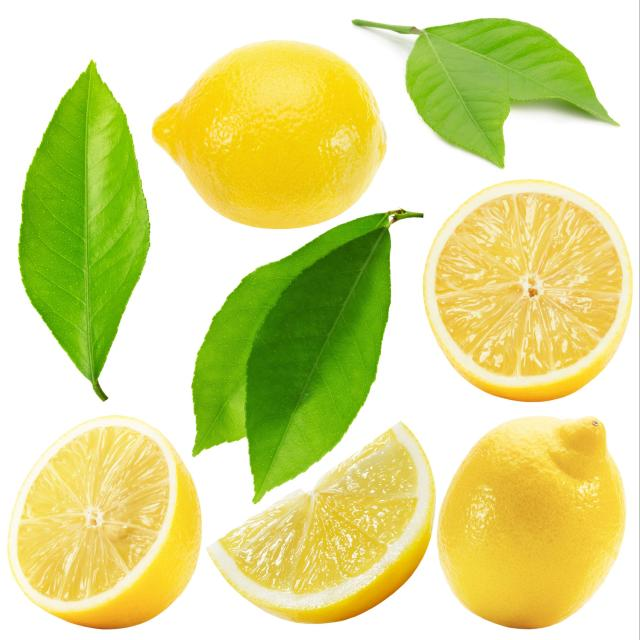lemon: (419, 174, 638, 406), (146, 35, 394, 232), (4, 411, 206, 635)
